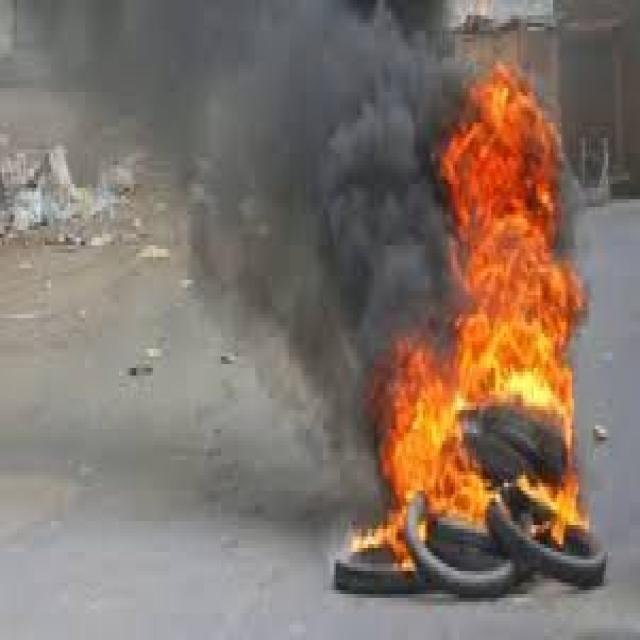Fire: (455, 64, 580, 522), (358, 336, 454, 568)
Smoke: (234, 0, 454, 343), (56, 0, 233, 174), (302, 344, 358, 530), (197, 174, 235, 340)
